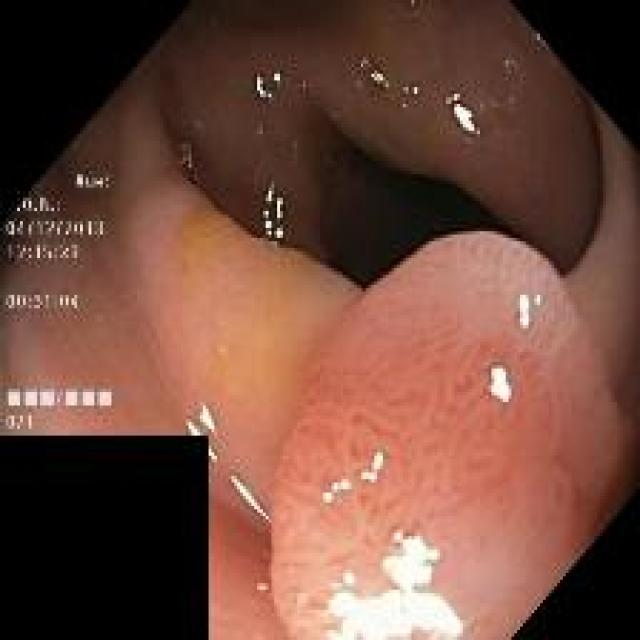Polyps: (271, 233, 640, 638)
